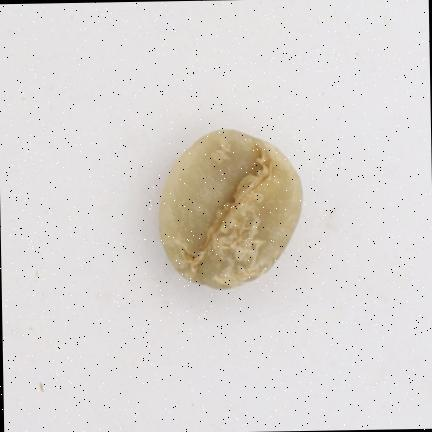husk: (159, 129, 301, 288)
